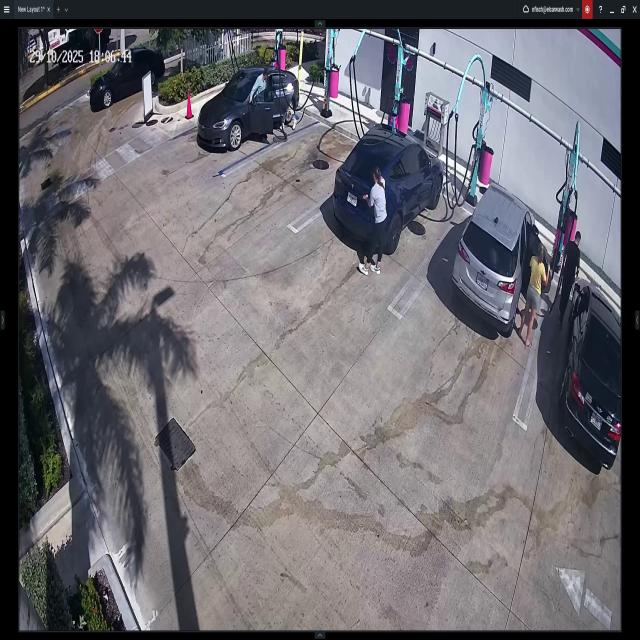Car: (332, 125, 442, 253), (453, 188, 547, 332), (559, 272, 621, 470), (195, 74, 298, 152), (89, 49, 167, 108)
